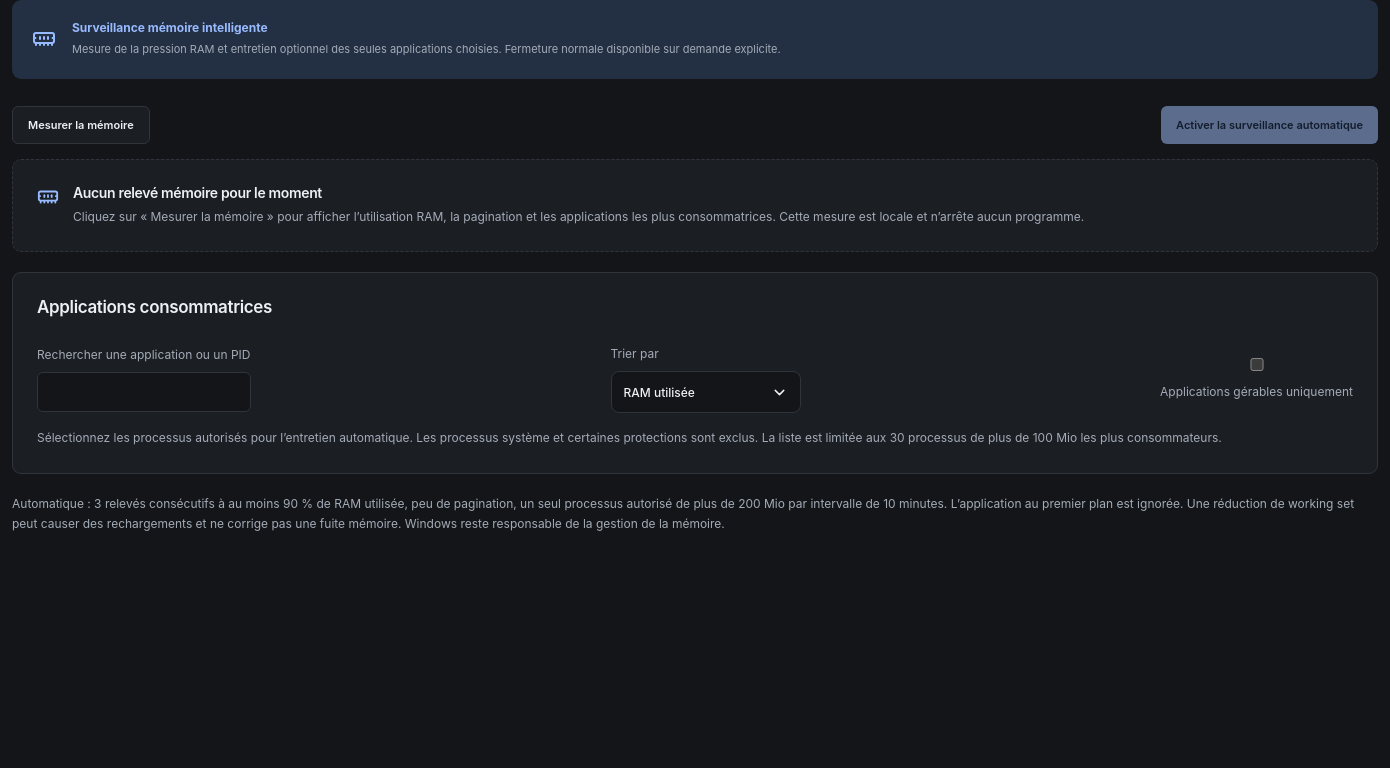
Scenario: uses a compact Nova sort menu instead of the browser dropdown
The width and height of the screenshot is (1390, 768).
Step 1. Click the button "Mesurer la mémoire" → (81, 125), box [12,106,150,144]
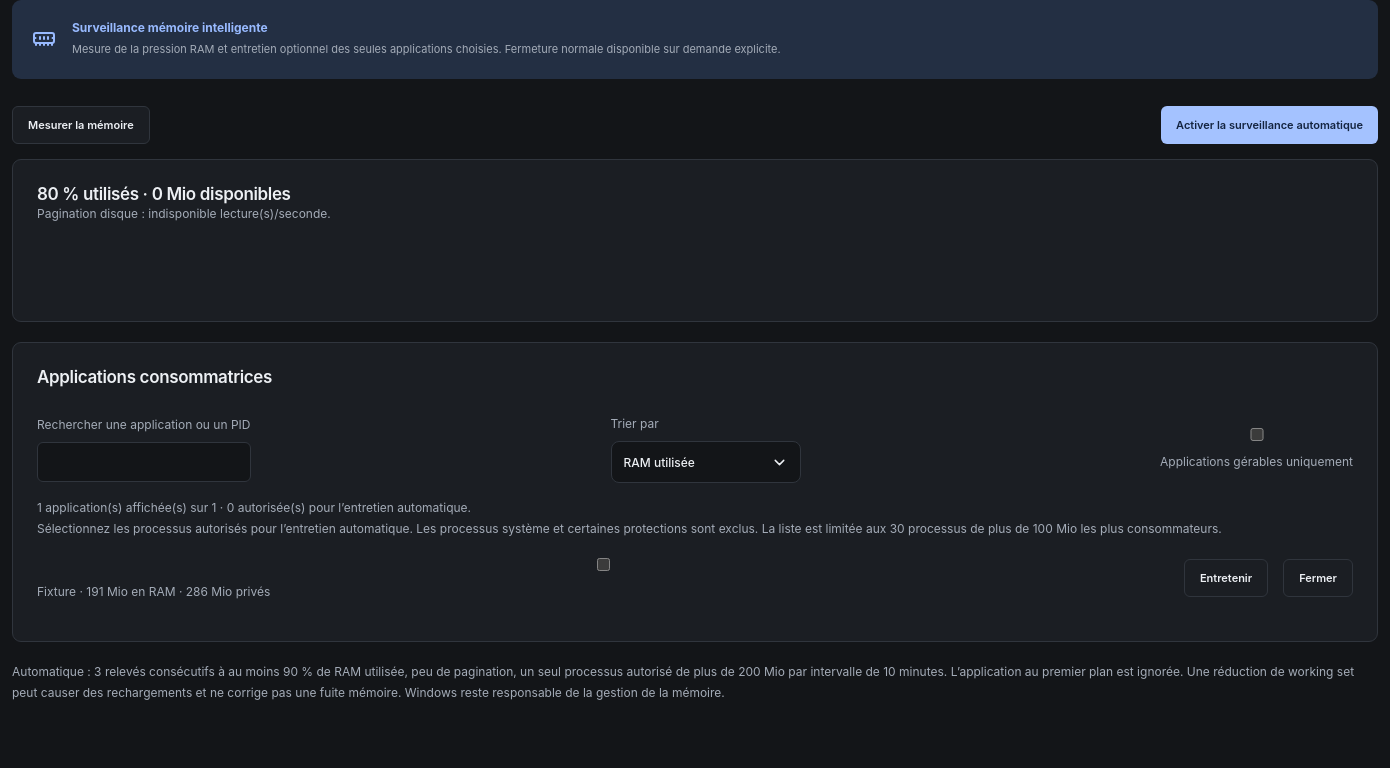
Step 2. Click the dropdown labelled "RAM utilisée" → (706, 462), box [610,441,800,483]
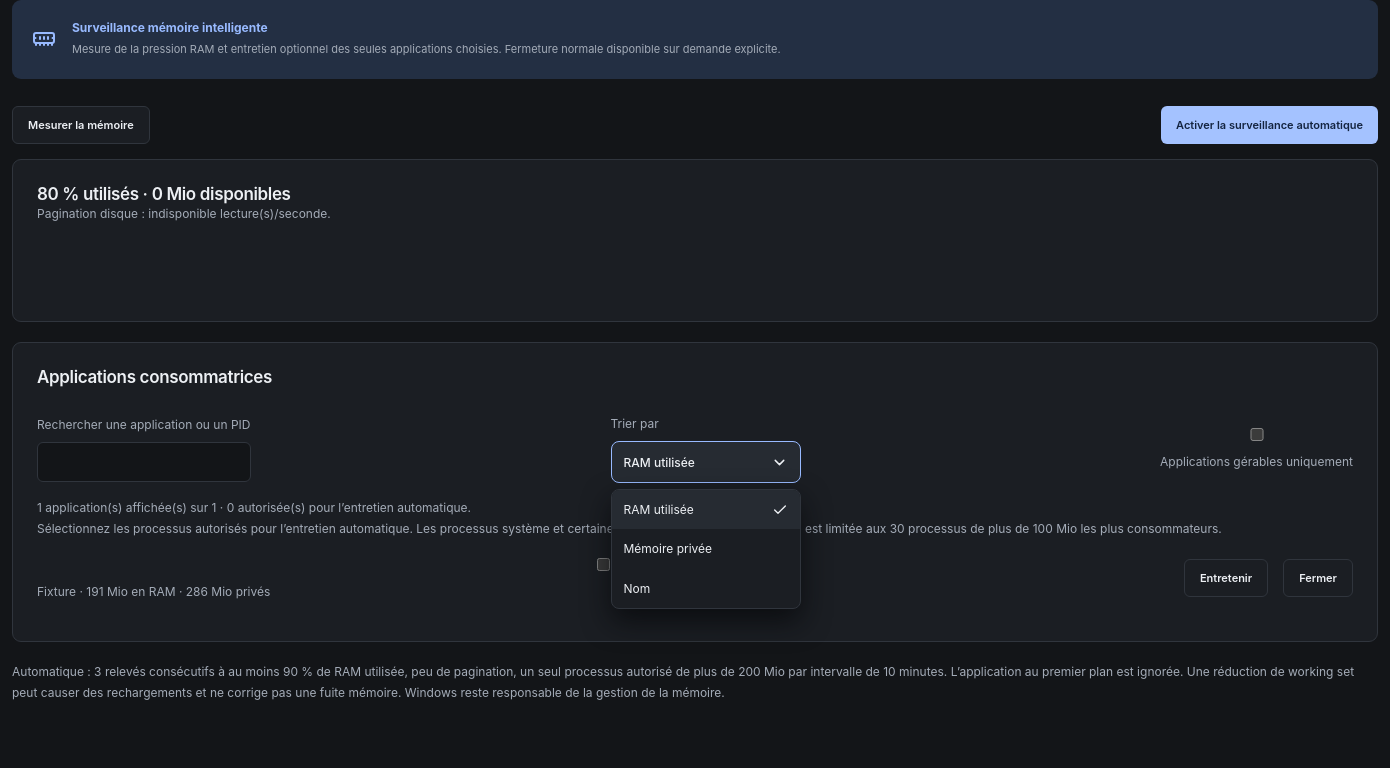
Expected: the list shows "Mémoire privée"
Step 3. Click the option "Mémoire privée" → (706, 549), box [612,529,800,569]
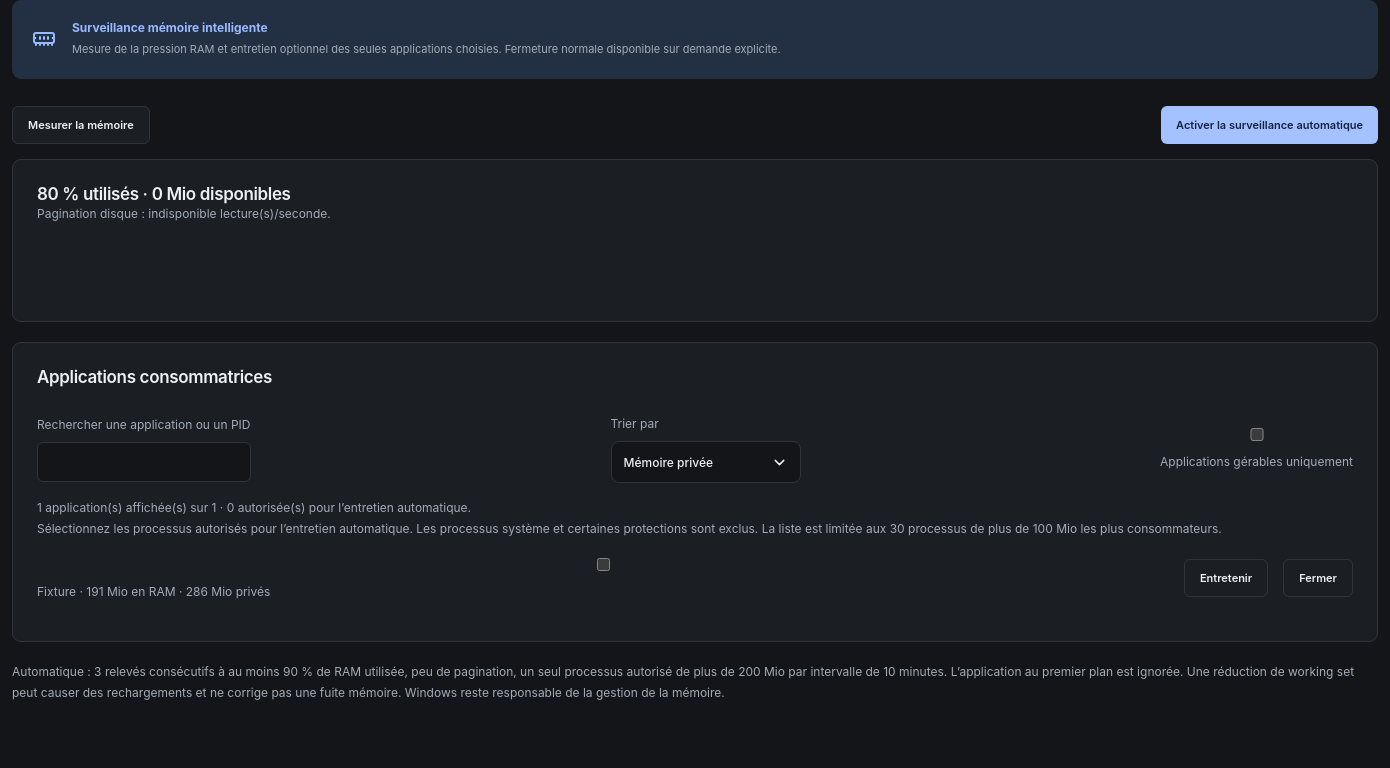
Expected: the list is gone
Expected: the dropdown labelled "Mémoire privée" is shown, [610,441,800,483]
